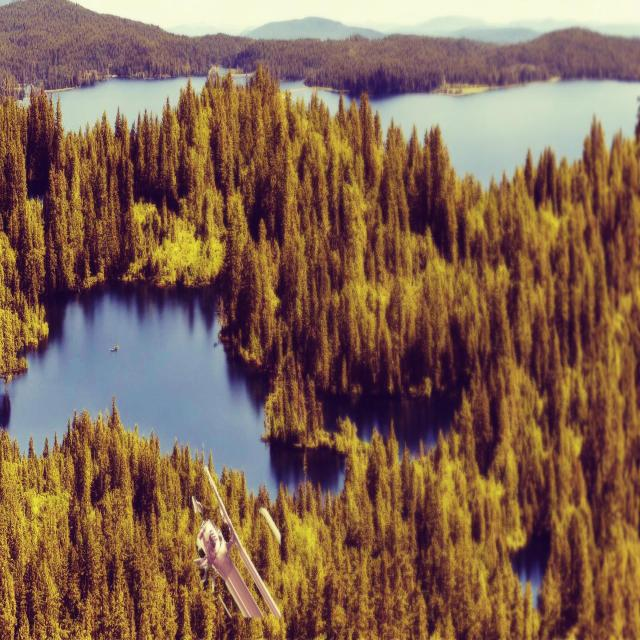airplane: (191, 464, 281, 620)
